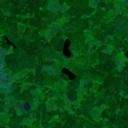alloviz: (59, 66, 77, 81), (2, 33, 17, 50), (61, 37, 73, 58)
